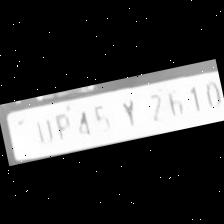0: (197, 76, 223, 110)
1: (182, 80, 204, 116)
2: (140, 88, 168, 124)
4: (68, 102, 96, 139)
6: (160, 84, 186, 120)
P: (47, 106, 74, 144)
U: (28, 112, 54, 146)
Y: (114, 92, 144, 130)
